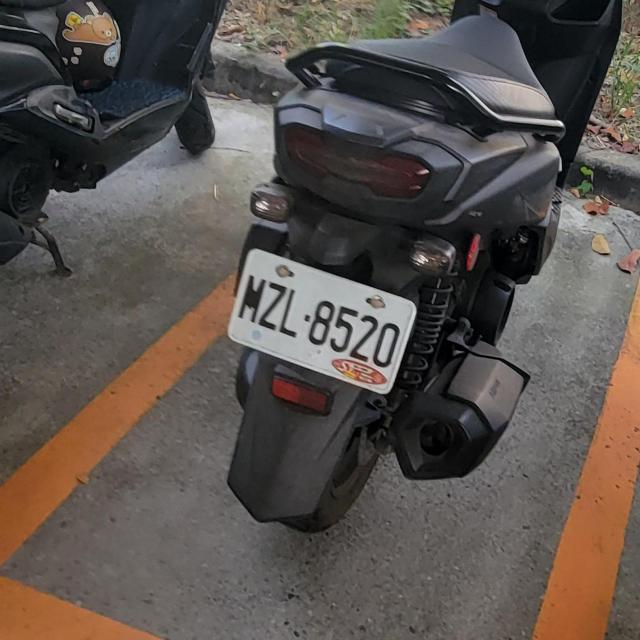W: (221, 244, 424, 396)
